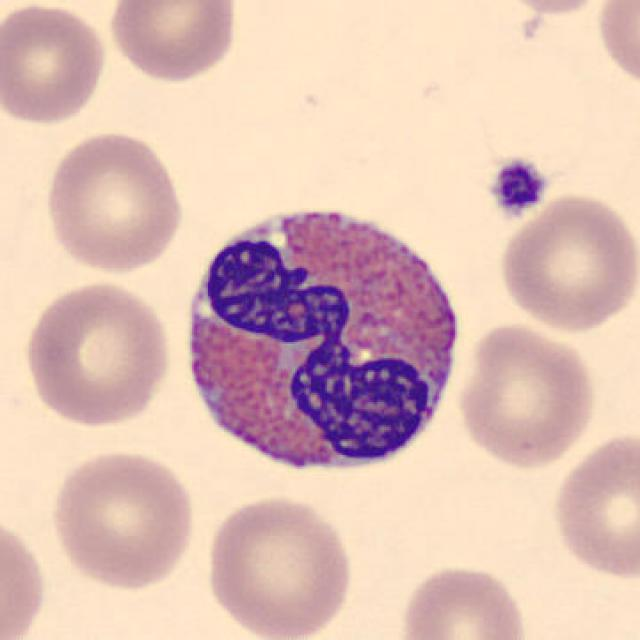Eosinophil: (167, 187, 475, 490)
Platelets: (485, 155, 551, 219)
RBC: (20, 277, 176, 430), (201, 492, 355, 640), (45, 446, 199, 592), (453, 321, 601, 471), (41, 127, 187, 275), (494, 190, 638, 335), (0, 0, 110, 129), (548, 426, 638, 582), (103, 0, 242, 85), (395, 559, 533, 640), (0, 508, 50, 640), (592, 0, 638, 93), (480, 0, 617, 16)
